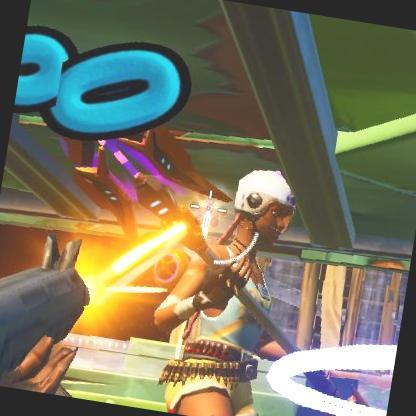person: (152, 157, 309, 361)
